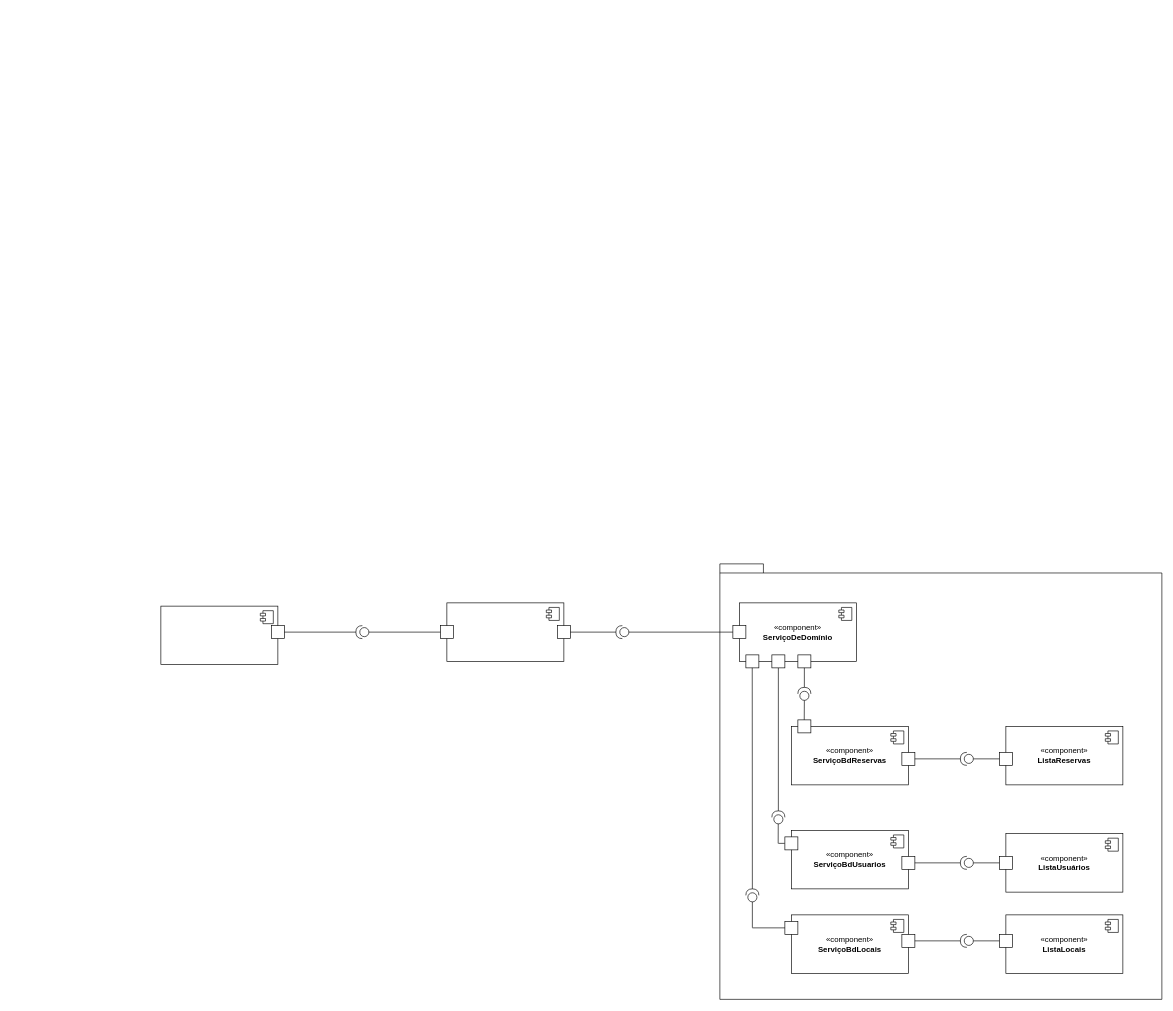
Some shapes in this 1173 by 1011 pixel diagram are drawn without their labels. The shapes that lost their labels are listed below. From the top down, each one's box as (x1, y1, x2, y2) in pixels, then its label:
(160, 605, 278, 665): «executable» Cliente
(446, 602, 564, 661): «executable» Broker
(719, 563, 1162, 999): «executable» Servidor
